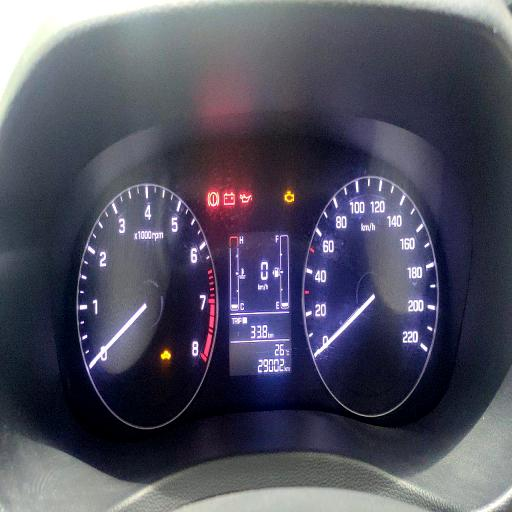brake_system_fault: (207, 190, 220, 208)
check_engine: (284, 190, 294, 204)
oil: (239, 192, 252, 205)
tachometer: (76, 182, 218, 430)
vehicle_charging: (223, 191, 235, 206)
